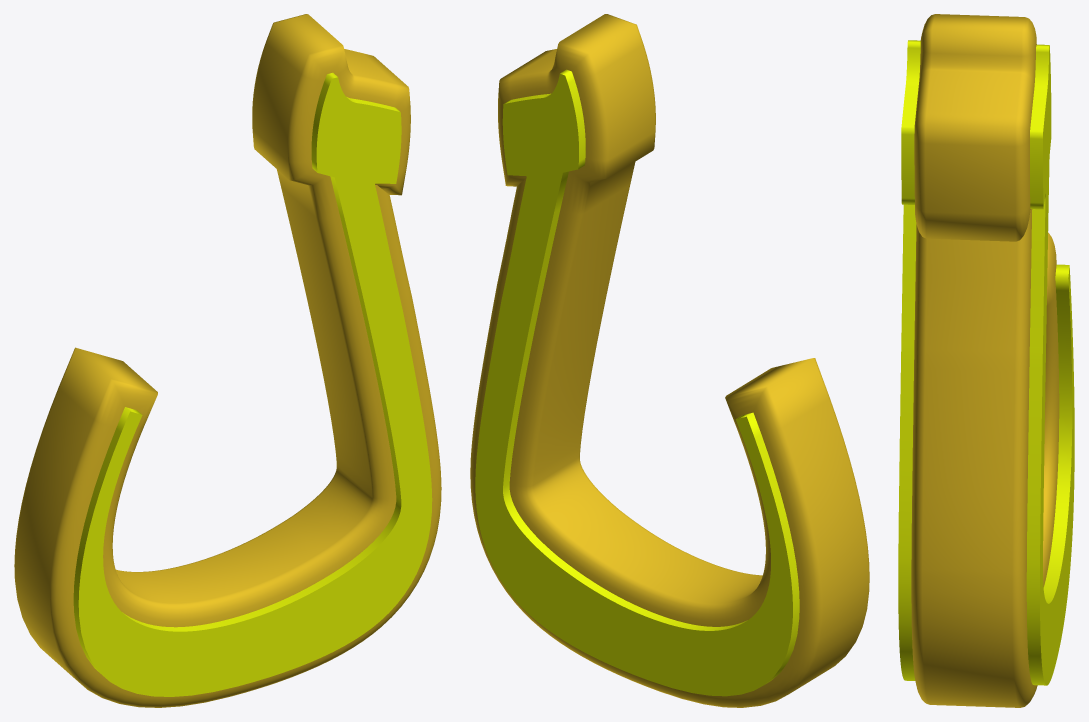
The picture shows the model from 3 angles, left to right: view 1: azimuth 30°, elevation 25°; view 2: azimuth 150°, elevation 25°; view 3: azimuth 270°, elevation 25°; orthographic projection. The views are drawn at different scales.
Parts seen in each view (by area): view 1: text 2, Text; view 2: text 2, Text; view 3: text 2, Text.
Boxes of the visible parts, <box> form: text 2: <box>14,14,441,707</box>; Text: <box>73,72,432,696</box>; text 2: <box>470,14,869,707</box>; Text: <box>475,69,799,696</box>; text 2: <box>911,14,1059,707</box>; Text: <box>898,40,1074,685</box>.
Bounding box in the file's own units: 41.68 × 66.03 × 15.11.
